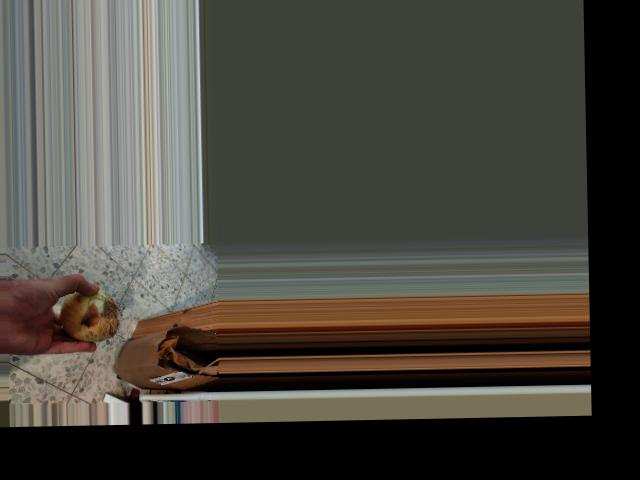onion: (53, 284, 121, 342)
